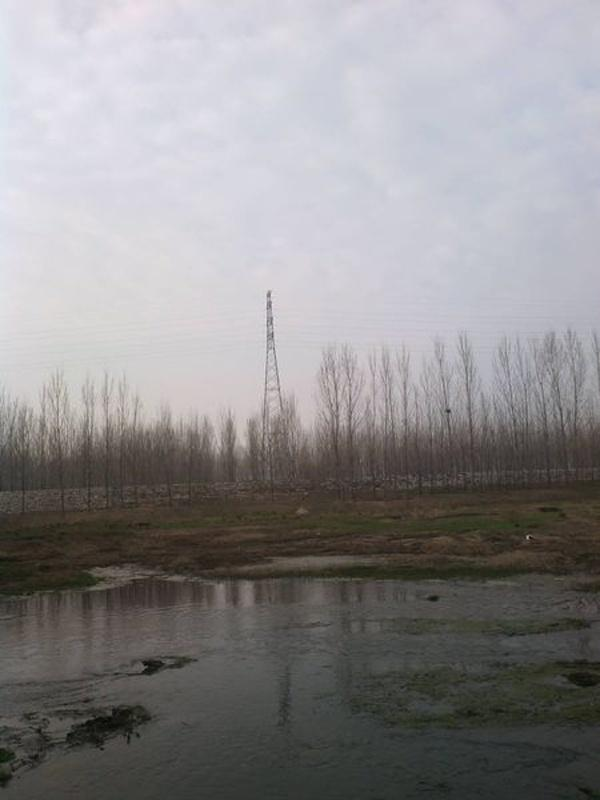power_tower: (242, 275, 311, 478)
